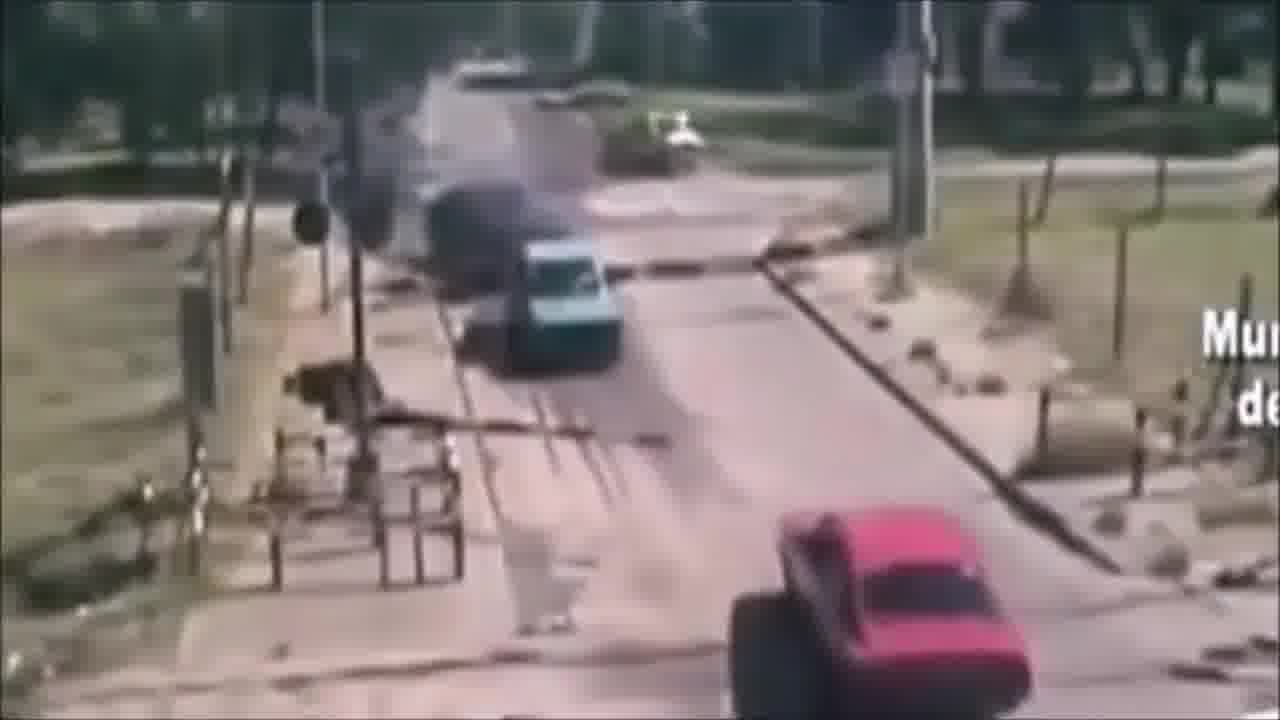crossing railway track: (737, 456, 1076, 715)
